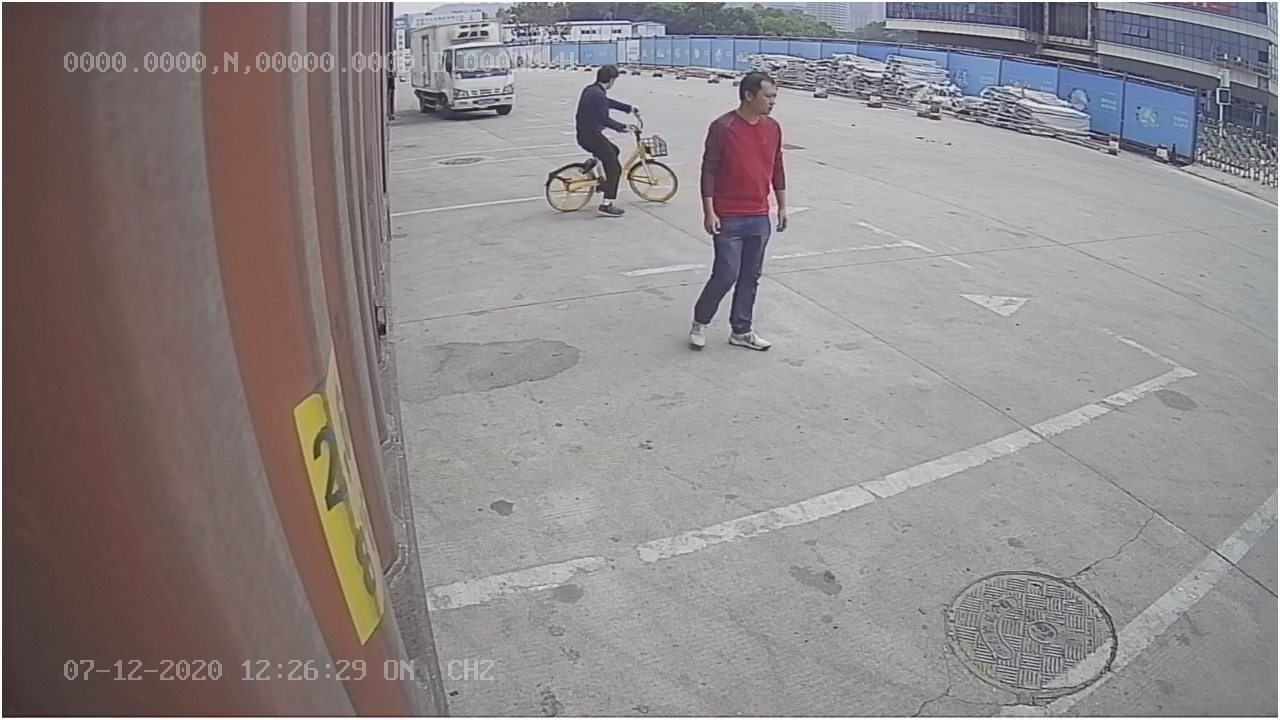person: (681, 65, 794, 358)
